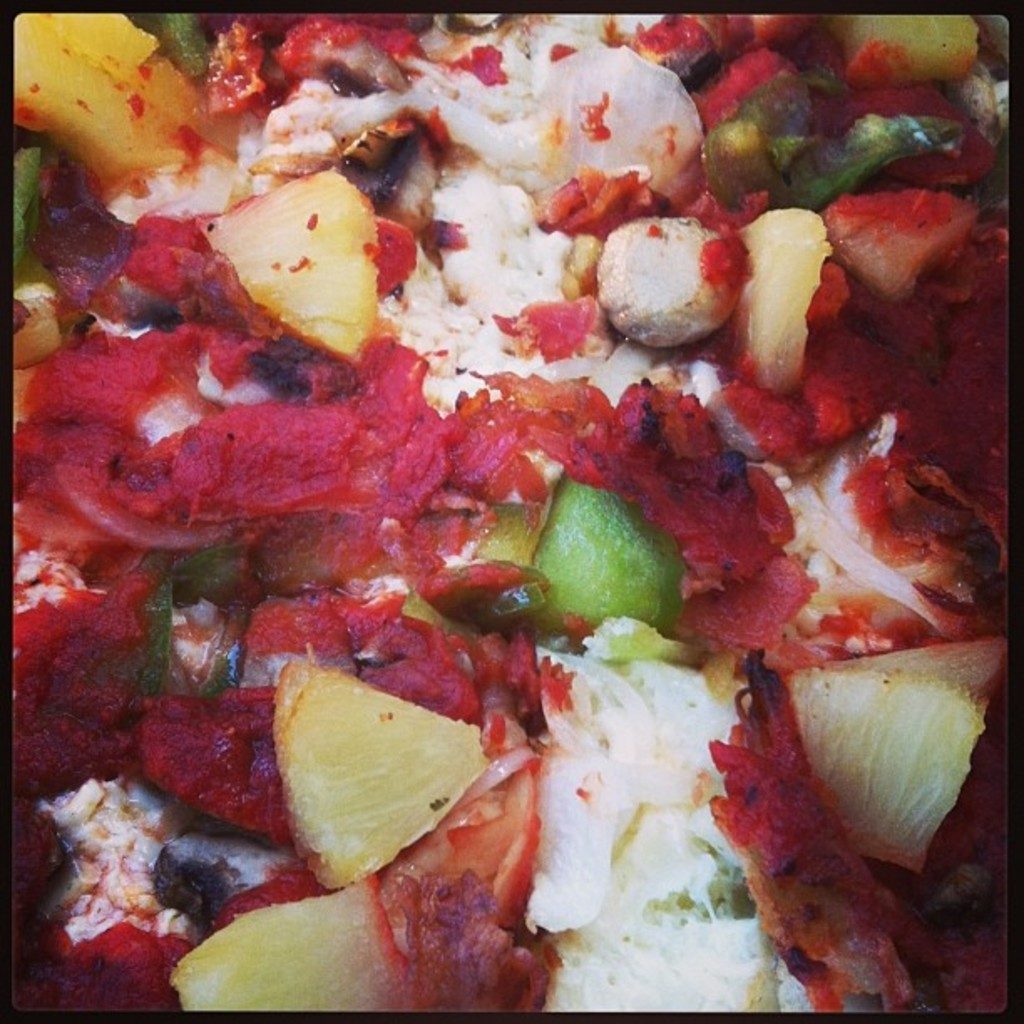salad: (5, 13, 1022, 1022)
